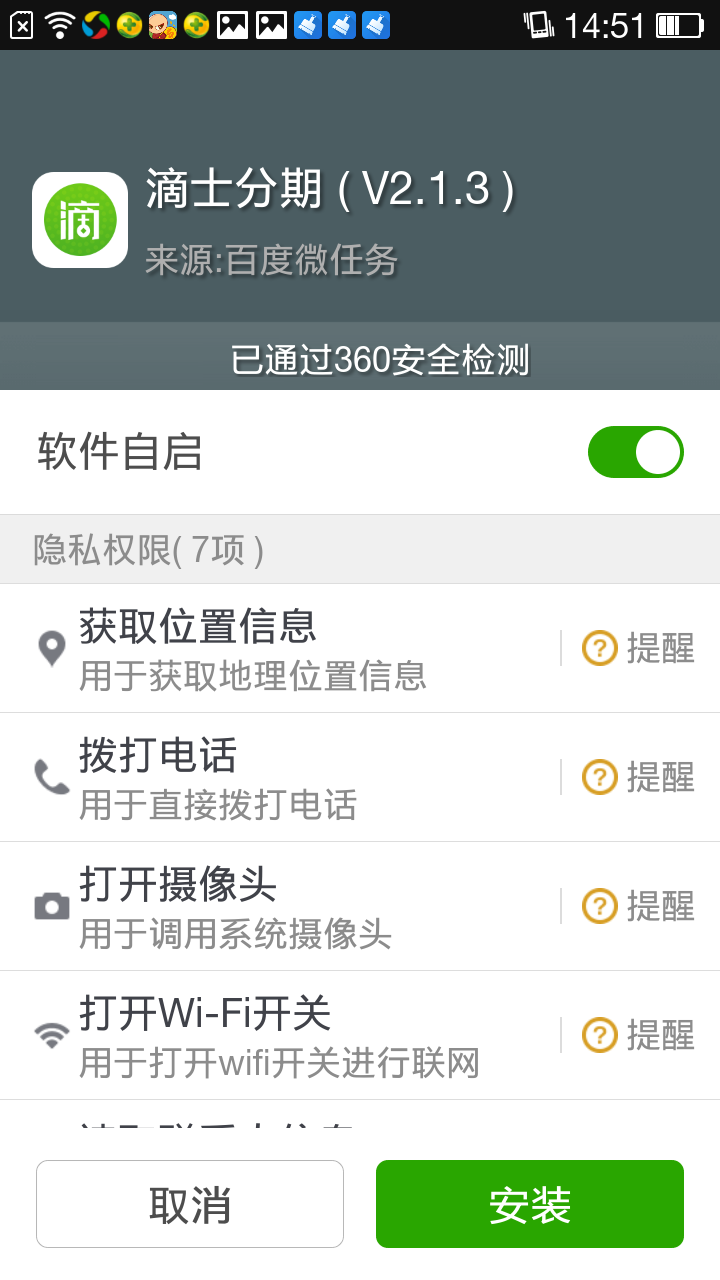button: (371, 1150, 698, 1258), (28, 1152, 352, 1258)
textview: (1, 588, 720, 1106)
